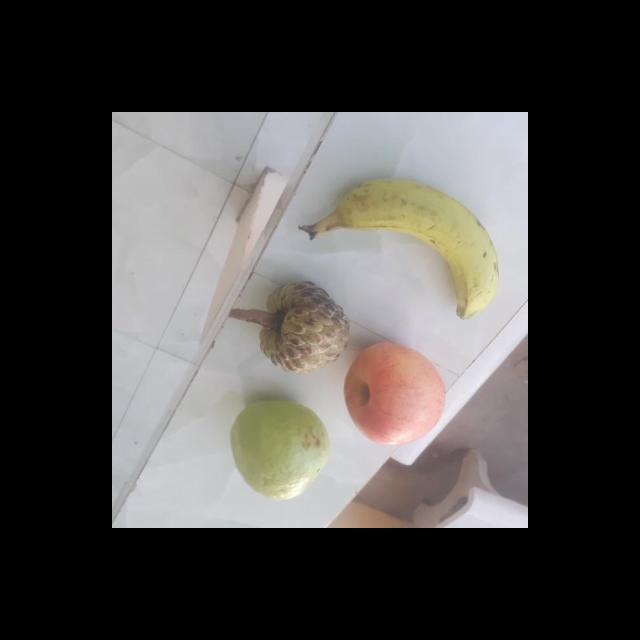Sakya fruit: (252, 282, 350, 376)
apple: (341, 346, 450, 448)
banana: (308, 178, 496, 320)
guava: (228, 401, 324, 497)
